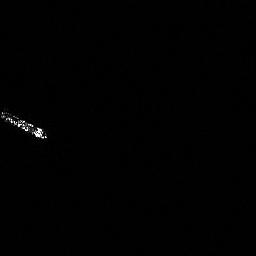ship: (1, 108, 49, 142)
